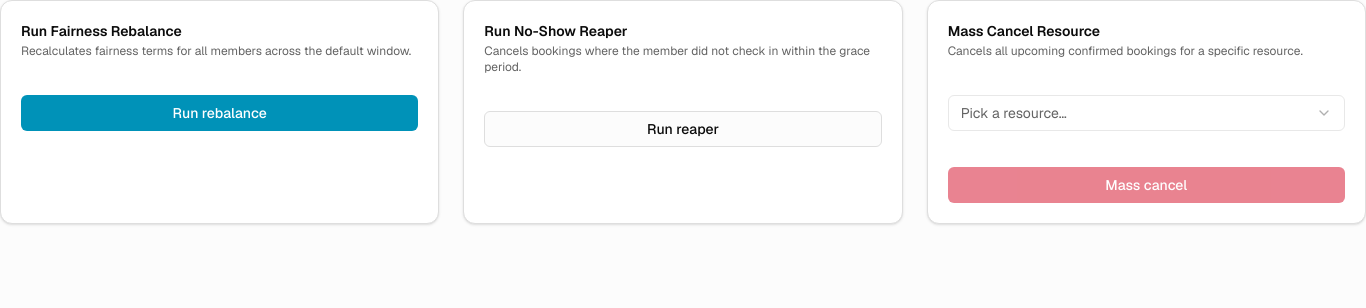
it: OpsPanel › c) rebalance success — toast.success shown and result card displayed
This screenshot has width=1366, height=308.
Click the button "Run rebalance".
click(220, 113)  # box [21,95,418,131]
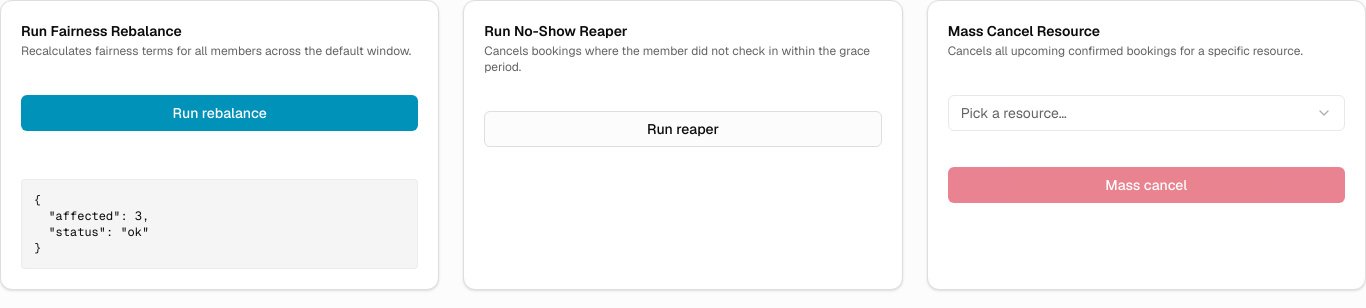
Expected: the text "{ \"affected\": 3, \"status\": \"ok\" }" is shown, [21,179,418,269]
